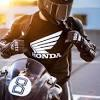helmet: (32, 0, 79, 24)
